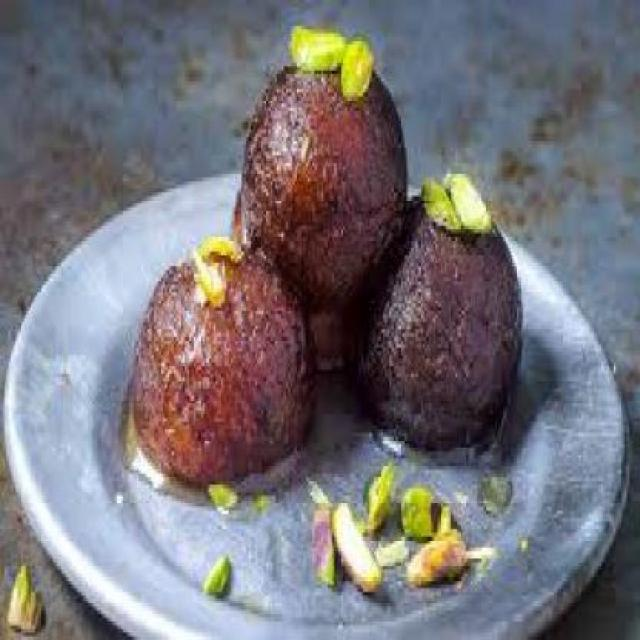gulab_jamun: (354, 189, 521, 454), (132, 250, 317, 484), (240, 61, 408, 317)
